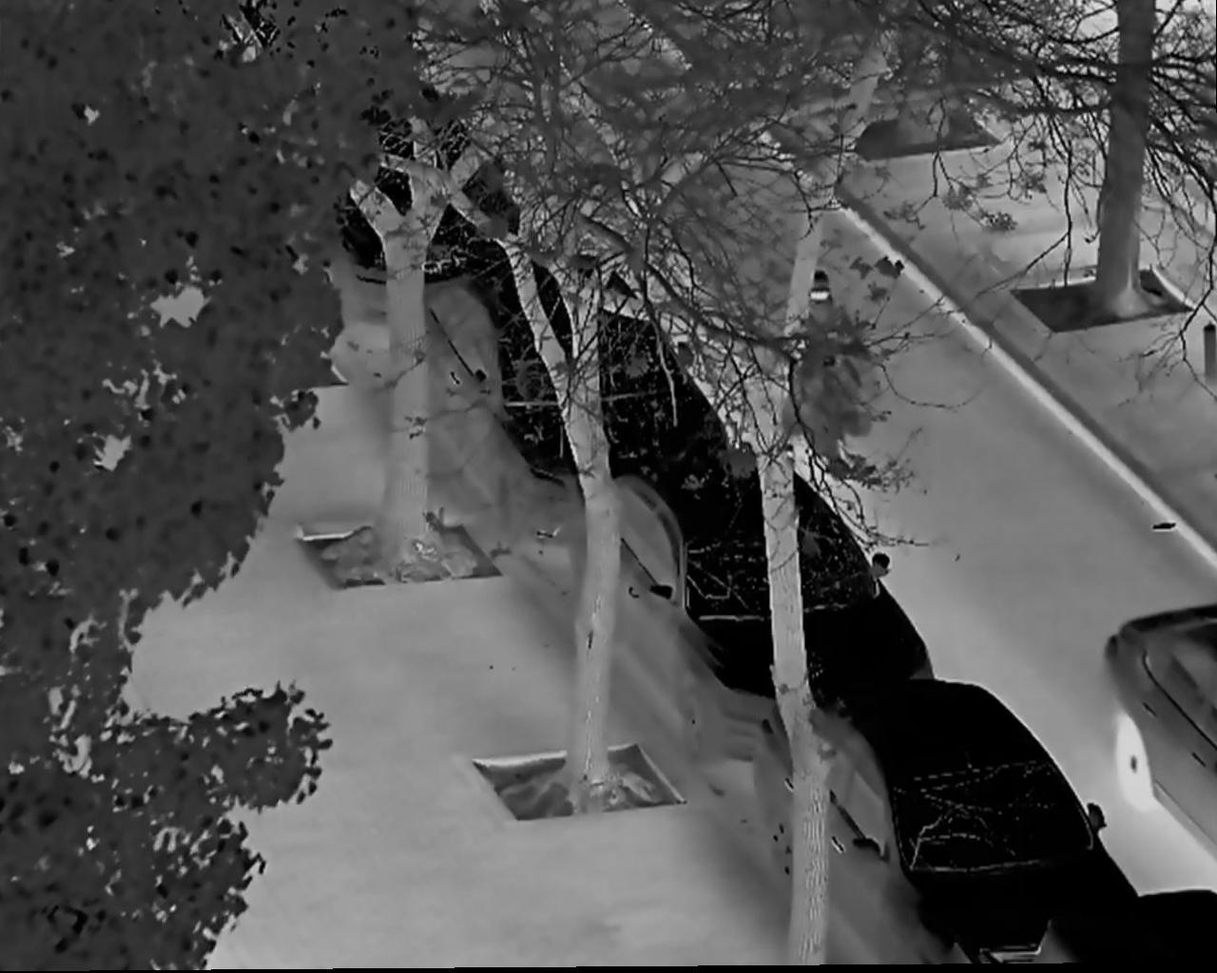person: (777, 263, 865, 417)
